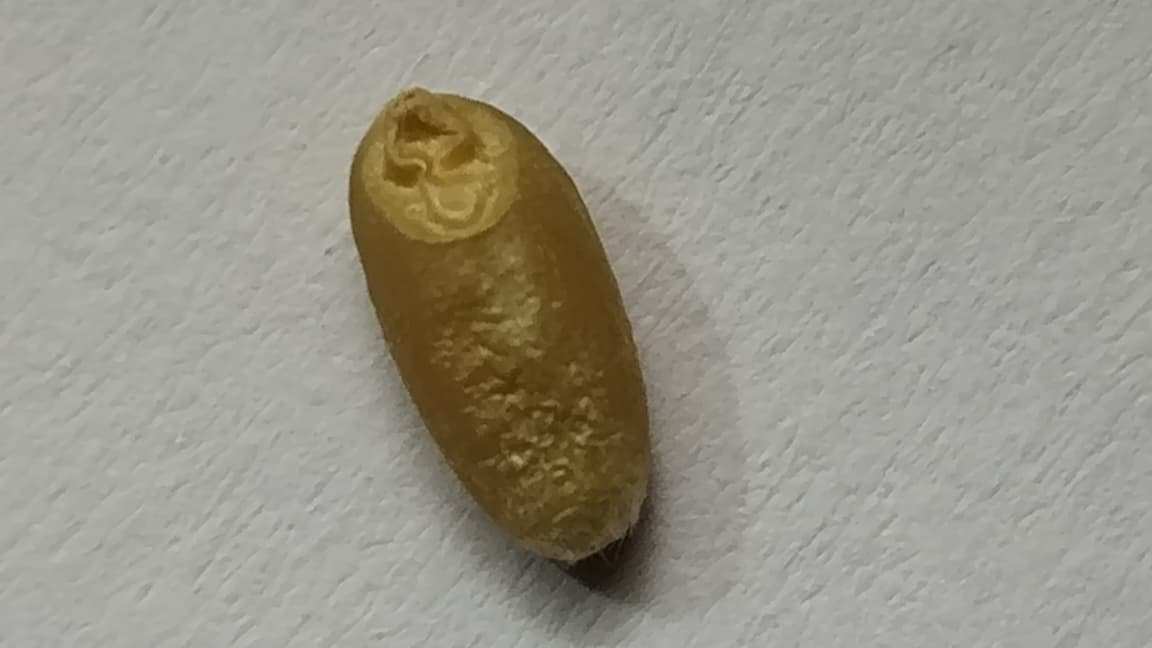healthy: (350, 88, 648, 560)
